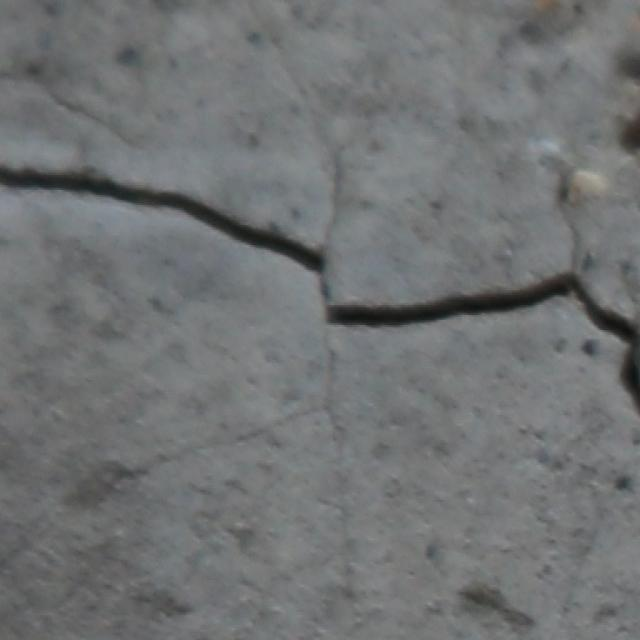Network: (1, 4, 640, 597)
